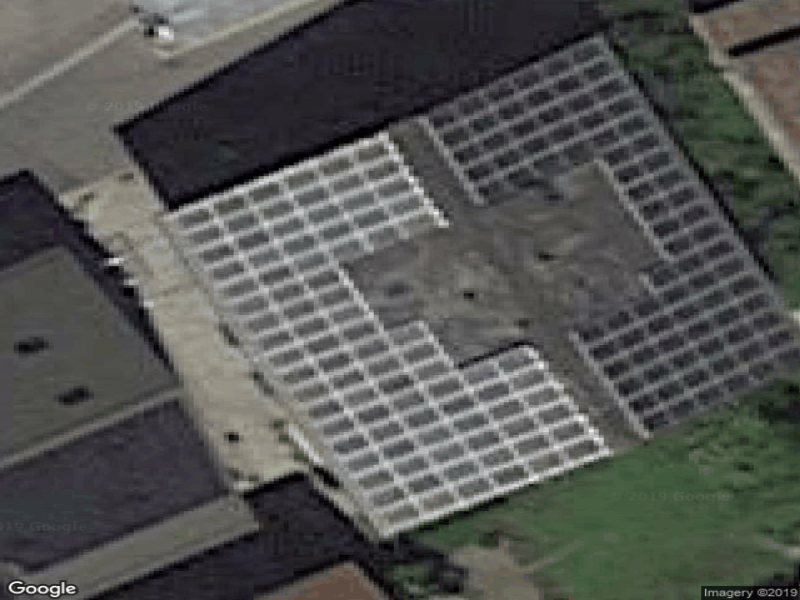pv: (166, 135, 614, 534), (418, 36, 800, 438)
